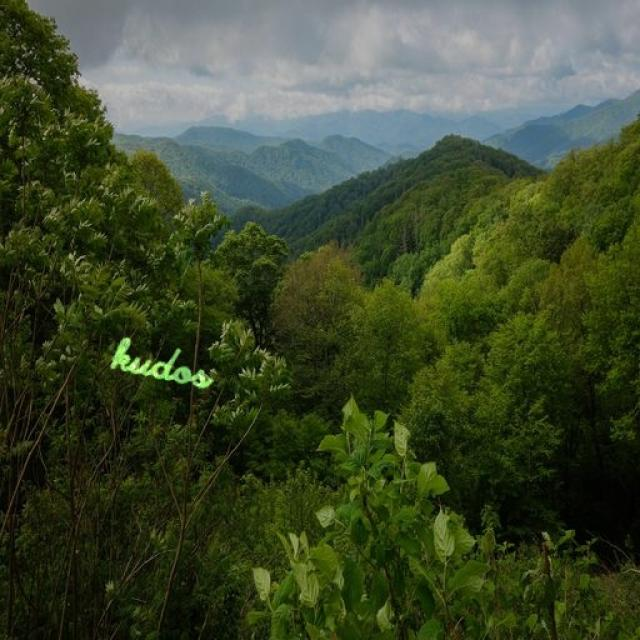watermark: (102, 334, 241, 395)
